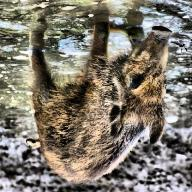boar: (32, 14, 178, 186)
